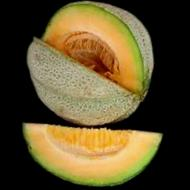Melon Ripe: (17, 0, 161, 132), (13, 110, 162, 190)
